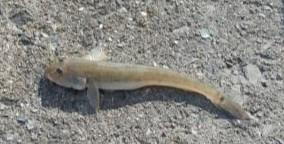fish: (45, 49, 249, 117)
